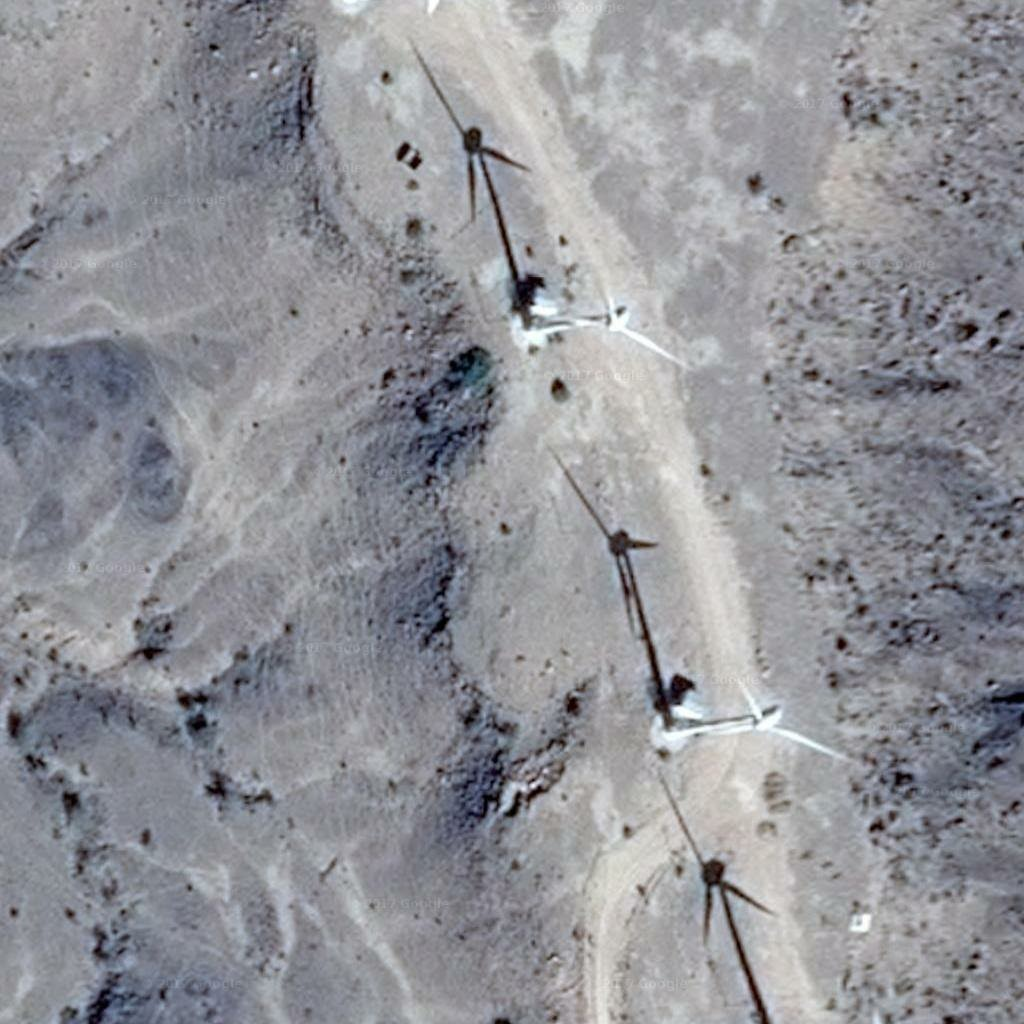Windmill: (400, 28, 562, 311)
